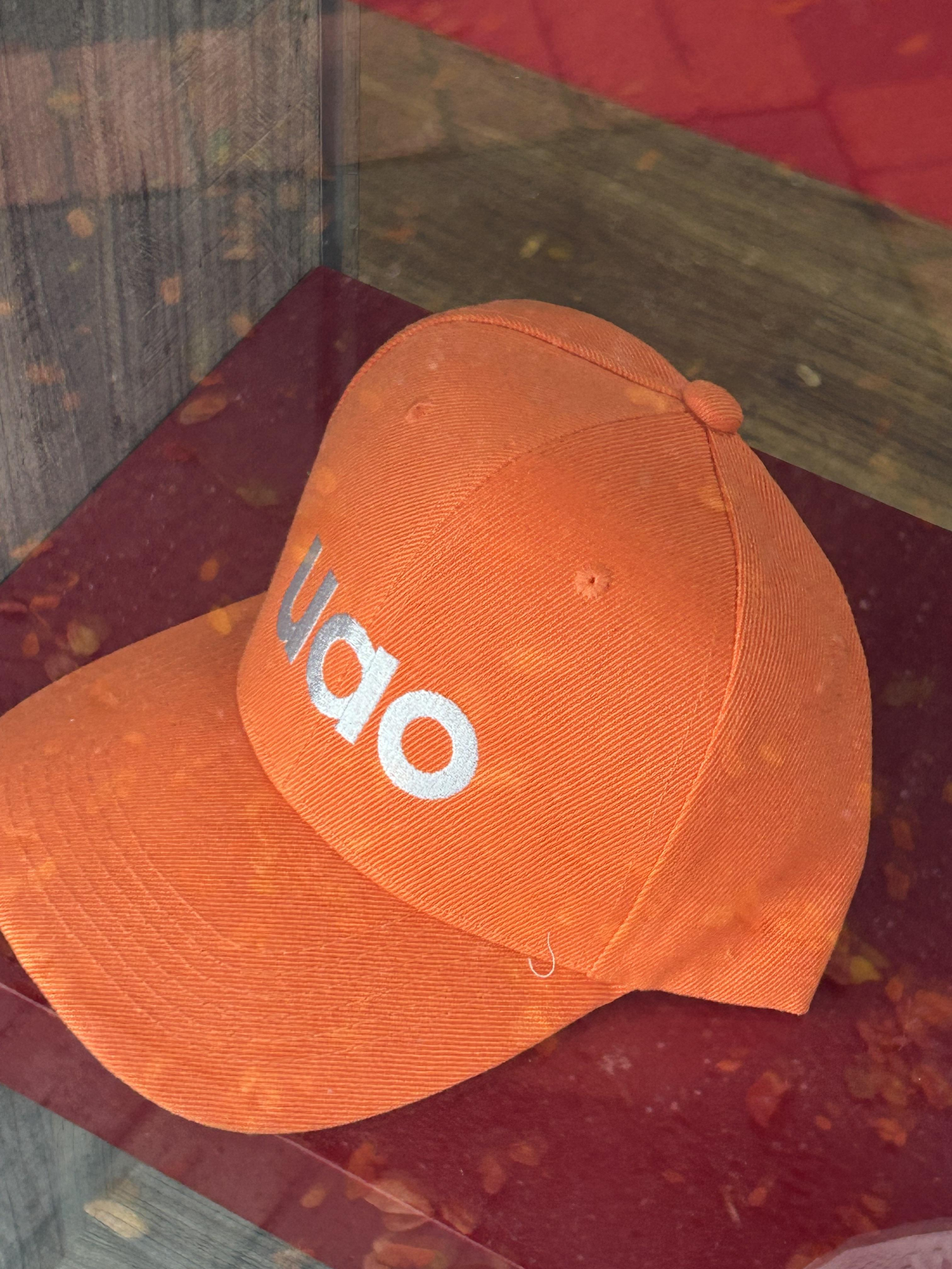gorra: (0, 301, 870, 1132)
